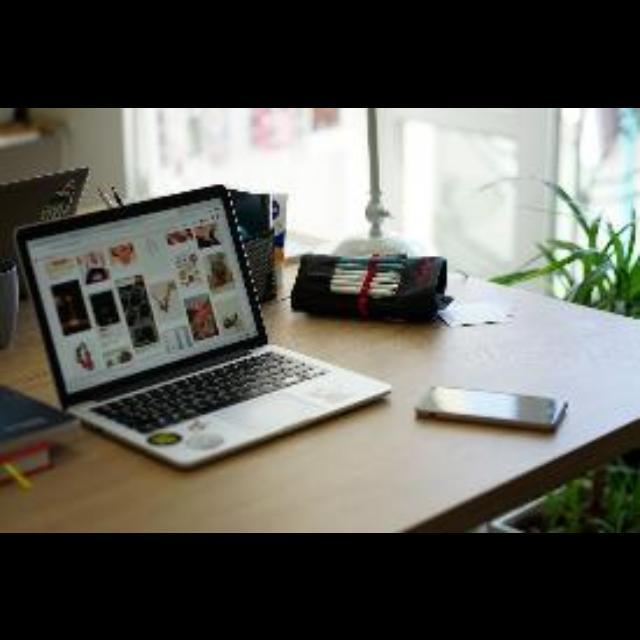PhoneUse: (416, 386, 566, 434)
